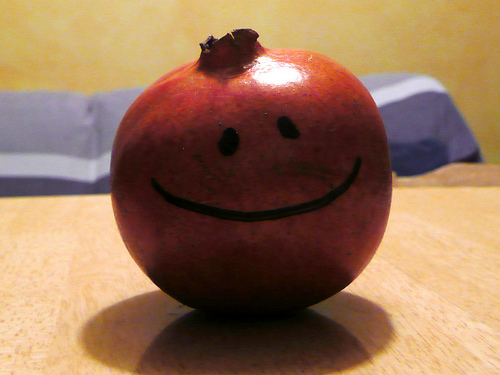pomogranate: (109, 28, 394, 321)
